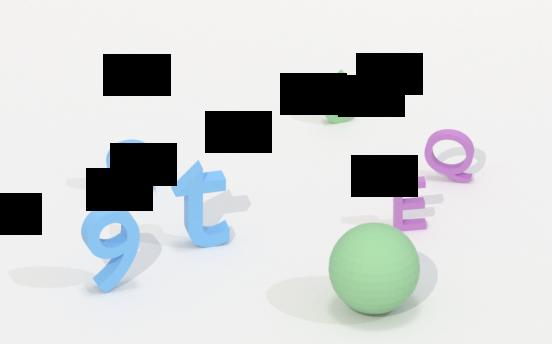6: (316, 62, 359, 134)
9: (74, 200, 144, 302)
cau: (329, 218, 420, 318)
e: (393, 171, 430, 233)
q: (421, 121, 481, 189), (101, 139, 158, 196)
t: (173, 153, 234, 254)
